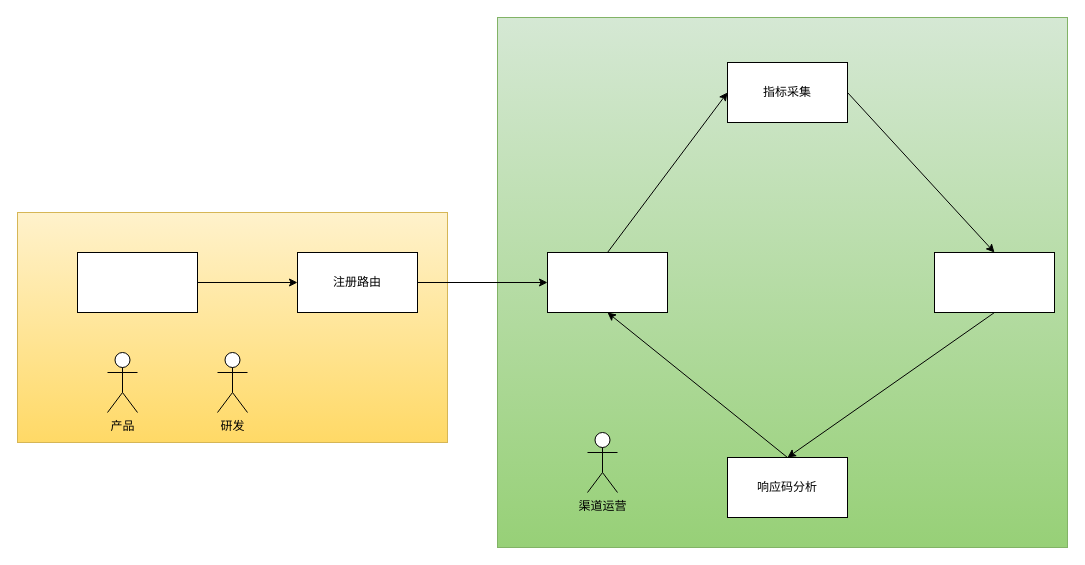
This 1085x565 diagram has some shape labels left out. The box of each missing label's shape, as (x1, y1, x2, y2) in pixels:
渠道集成: (76, 252, 198, 312)
路由策略: (546, 252, 668, 312)
运营分析: (934, 252, 1054, 312)
